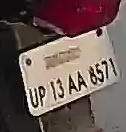1: (48, 81, 57, 104), (108, 58, 118, 75)
3: (54, 78, 65, 98)
5: (94, 63, 105, 84)
7: (99, 60, 110, 77)
8: (85, 66, 99, 85)
A: (73, 67, 87, 91), (66, 73, 77, 94)
P: (36, 84, 48, 108)
U: (25, 86, 40, 110)
